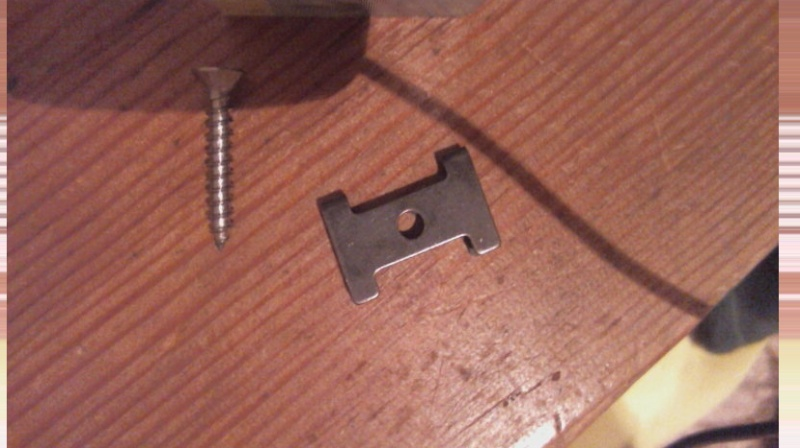O002: (315, 142, 505, 308)
S001: (186, 58, 244, 251)
